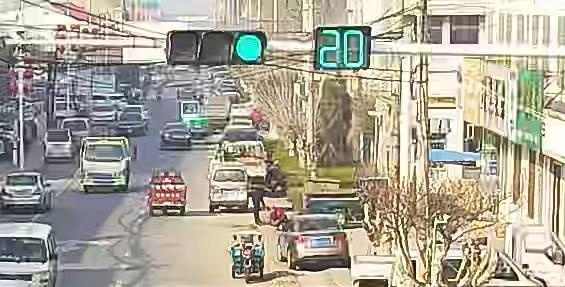green: (235, 33, 265, 64)
greentime: (320, 27, 369, 70)
